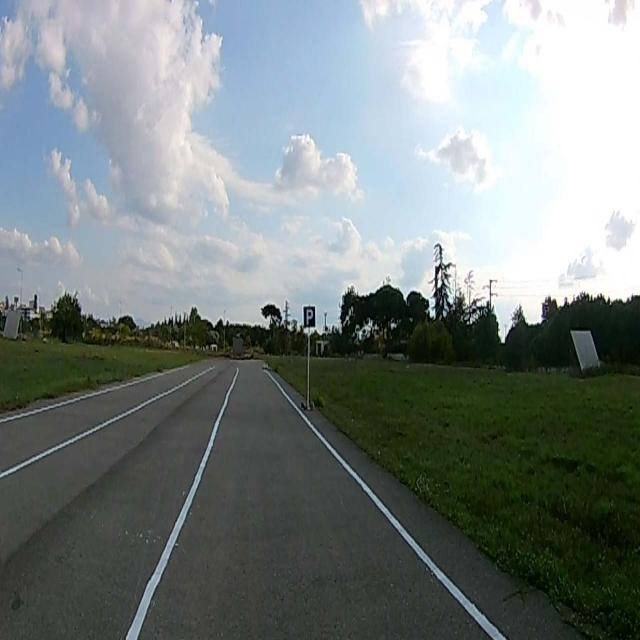park: (304, 304, 316, 330)
